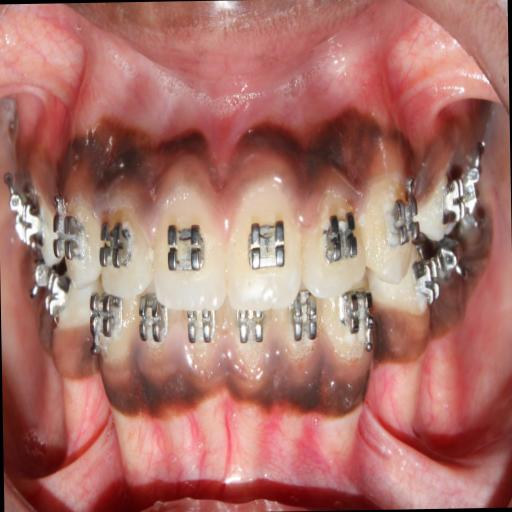correct_brace: (244, 214, 288, 278), (164, 218, 208, 280), (318, 208, 358, 270), (389, 183, 420, 254), (100, 212, 133, 276)
incorrect_brace: (304, 176, 364, 298), (99, 192, 154, 302)
